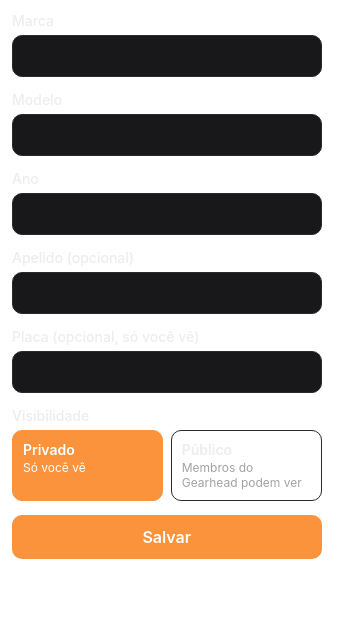
Test: valida campos obrigatórios e não envia
Click the button "Salvar". click: [167, 537]
box: [12,515,322,559]
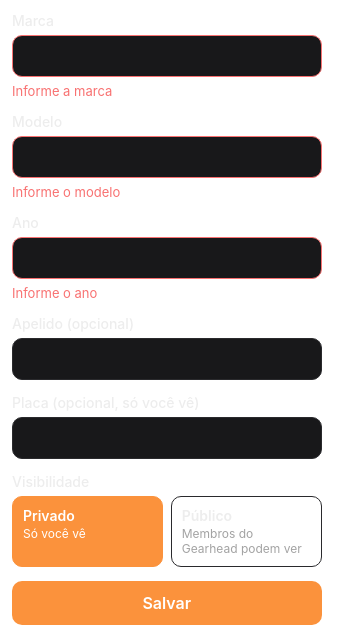
Expected: the text "Informe a marca" is shown, [12,83,112,99]
Expected: the text "Informe o ano" is shown, [12,285,97,301]
